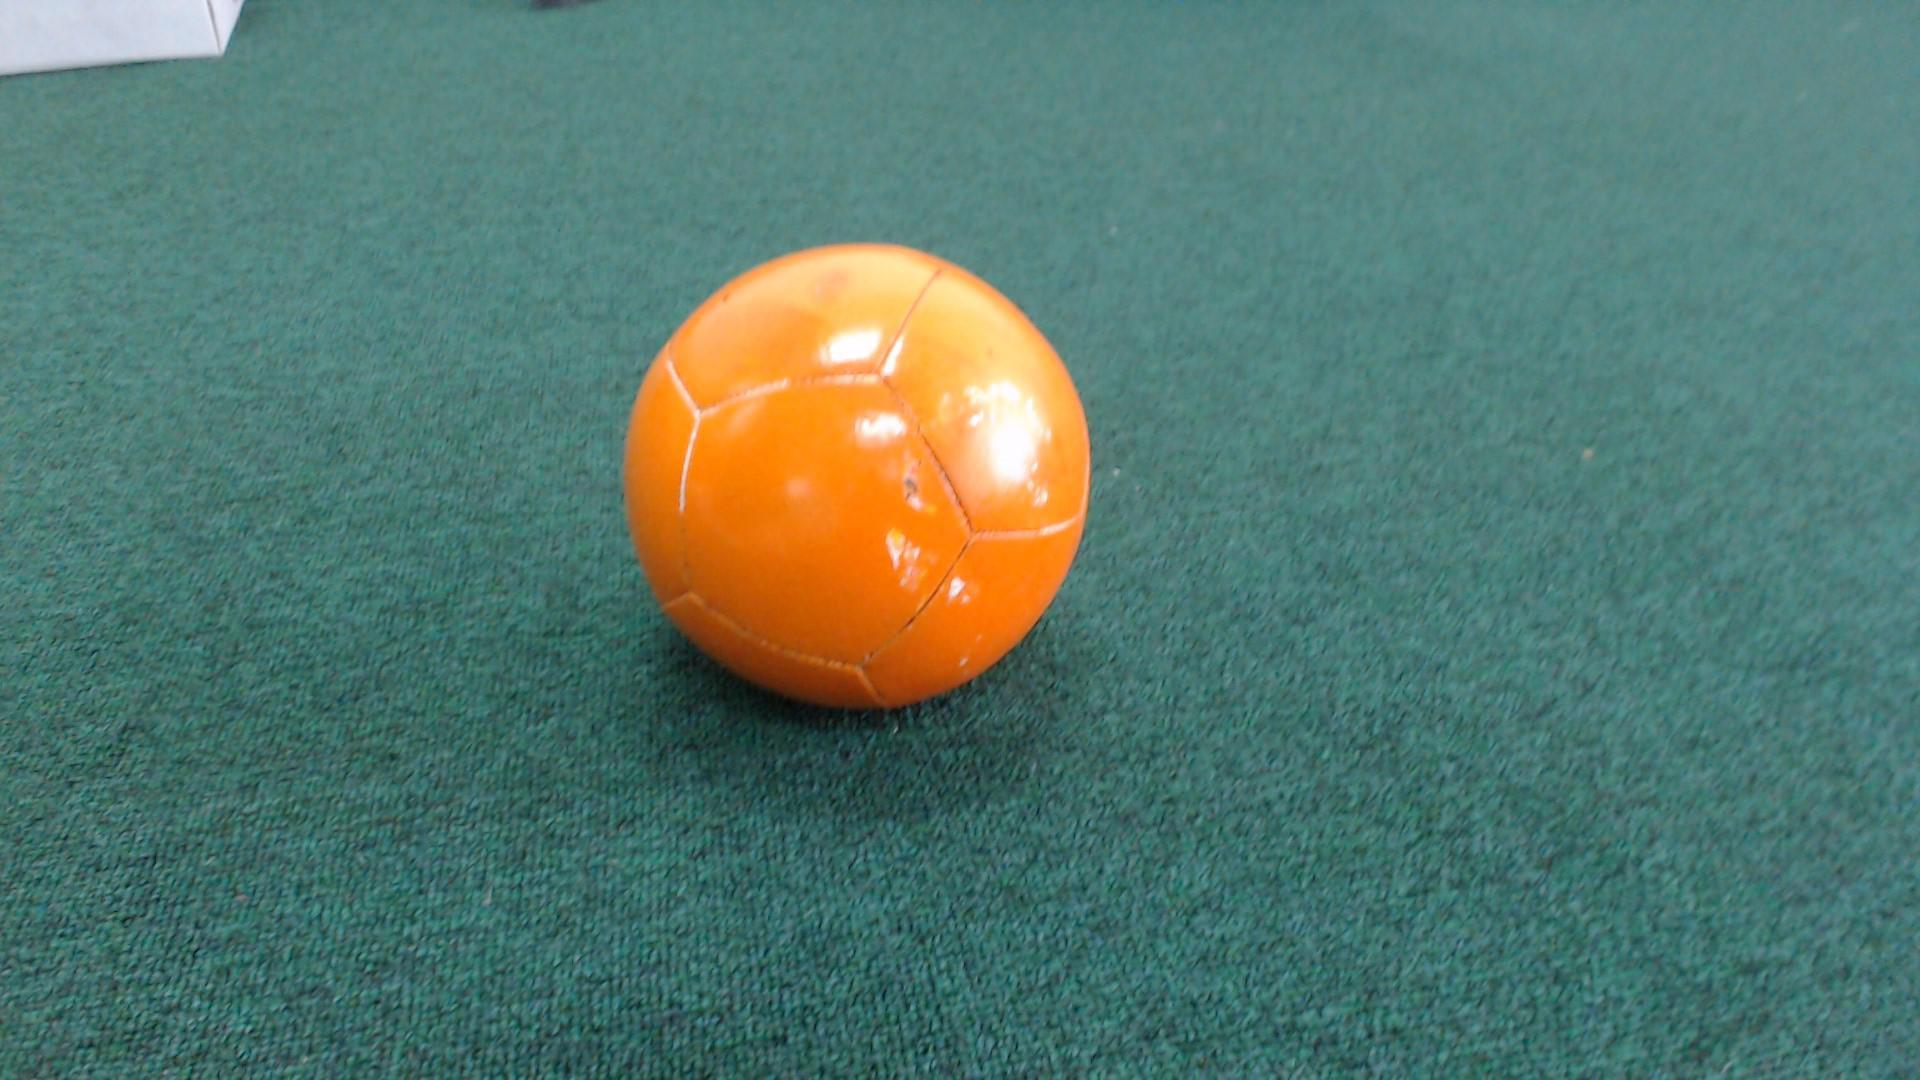bola: (582, 225, 1160, 741)
